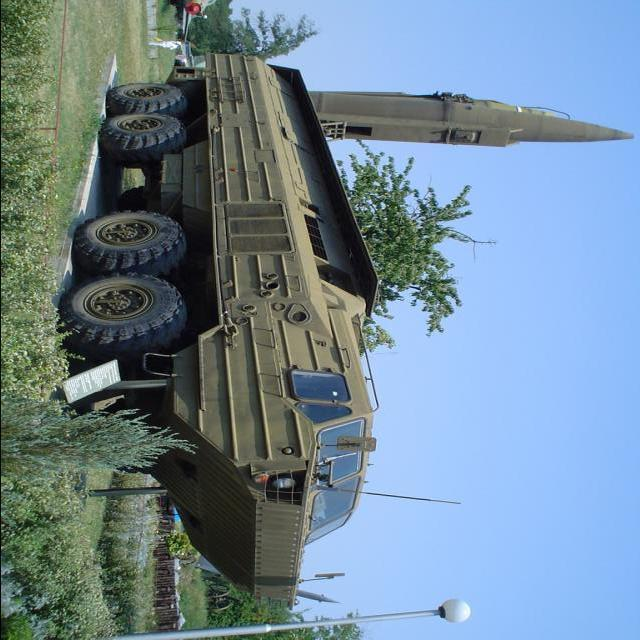missile: (302, 79, 632, 162)
